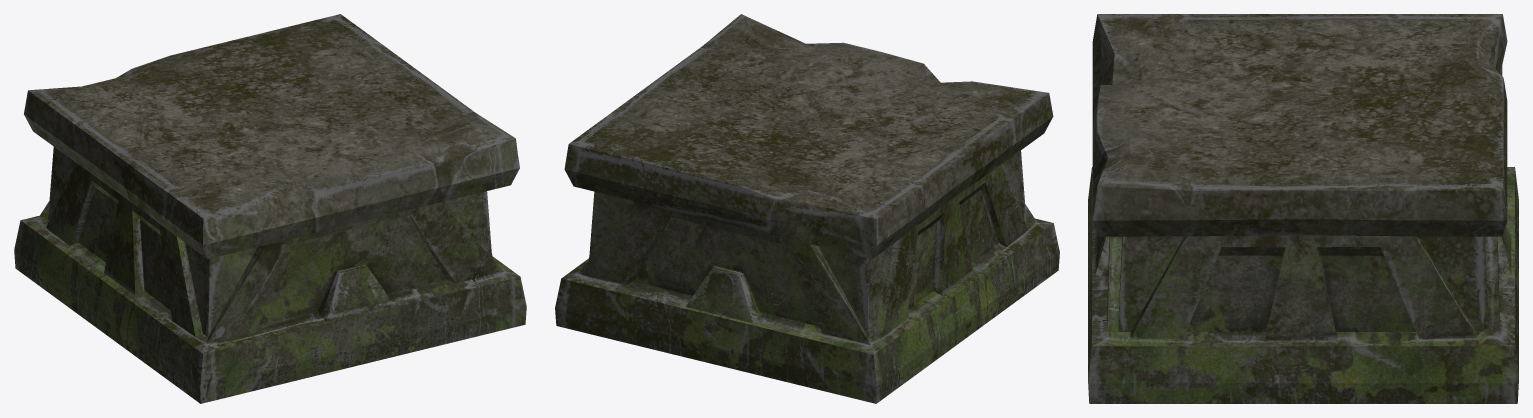
The model's file is Prop_Statue_03.fbx.
The picture shows the model from 3 angles, left to right: view 1: azimuth 30°, elevation 25°; view 2: azimuth 150°, elevation 25°; view 3: azimuth 270°, elevation 25°; orthographic projection. The views are drawn at different scales.
Parts seen in each view (by area): view 1: SM_StoneBase_01.001; view 2: SM_StoneBase_01.001; view 3: SM_StoneBase_01.001.
Part boxes in pixels (x1,y1,x2,y2): SM_StoneBase_01.001: [14, 14, 526, 403]; SM_StoneBase_01.001: [555, 14, 1059, 403]; SM_StoneBase_01.001: [1088, 14, 1518, 403].
Bounding box in the file's own units: 46.85 × 26.35 × 46.24.
1 material, 1 textured.
